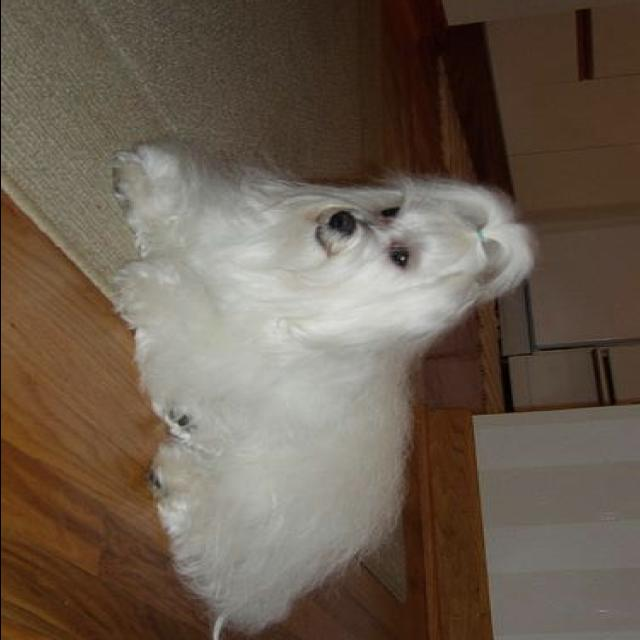maltese_dog: (99, 148, 536, 626)
